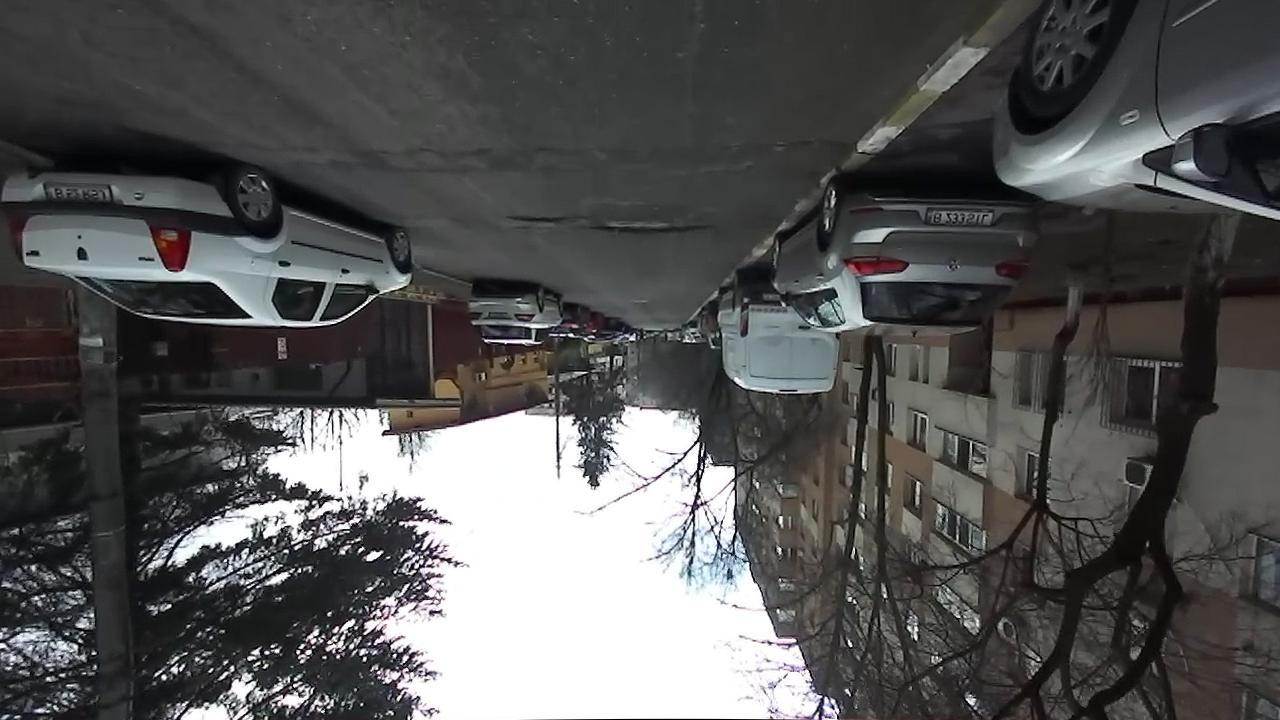pothole: (590, 217, 715, 237), (505, 213, 587, 227)
